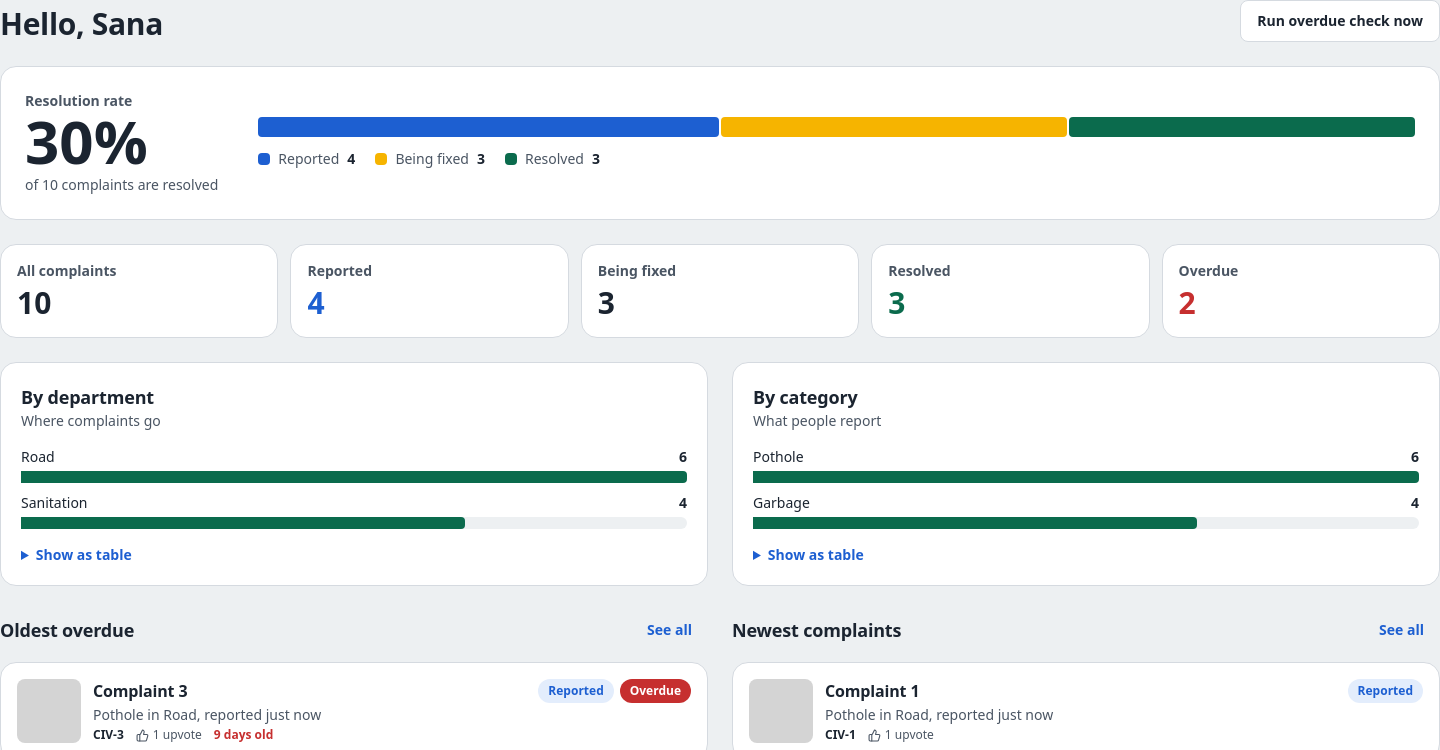
Test case: admin dashboard › runs the overdue check and reports the result
This screenshot has width=1440, height=750.
Click the button "Run overdue check now" at (1340, 21), box [1240,0,1439,42]
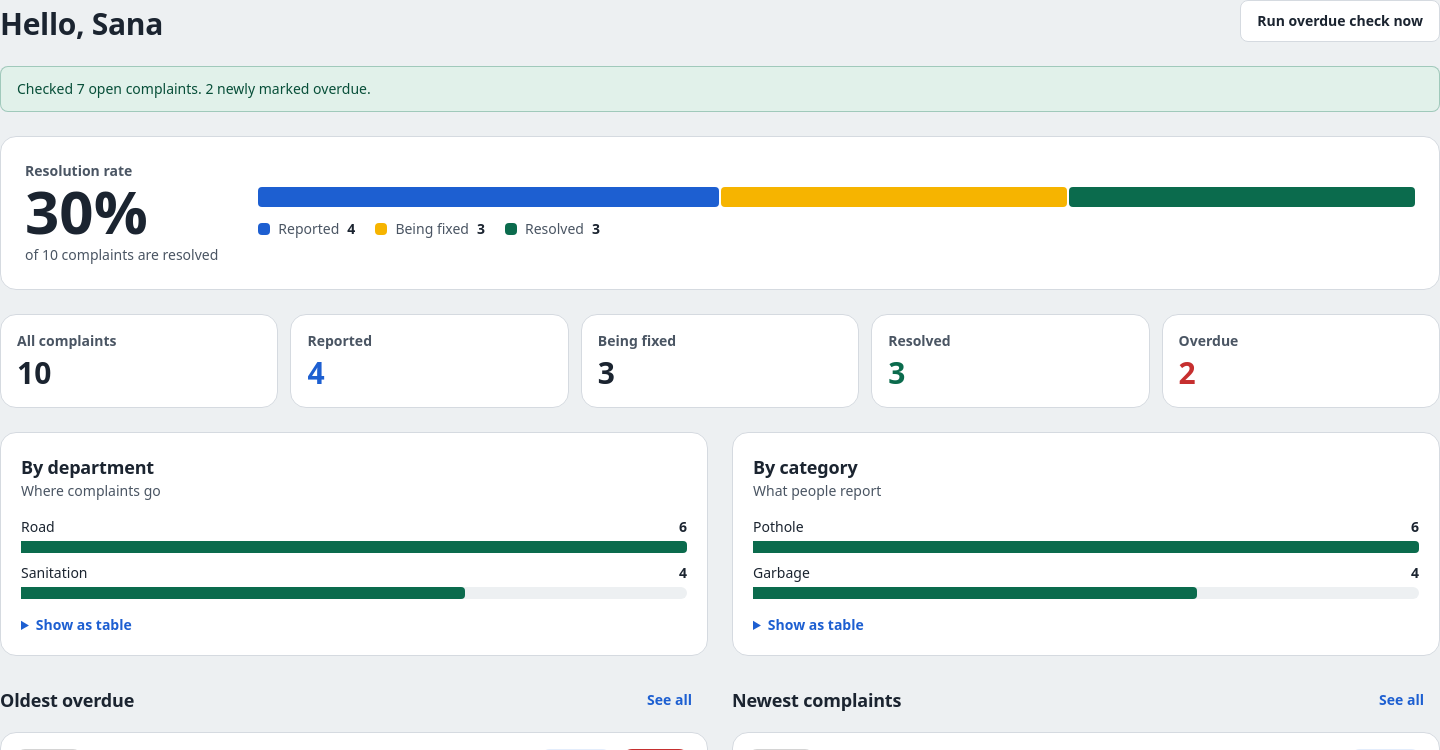
Result: the text "Checked 7 open complaints. 2 newly marked overdue." is shown at [0,66,1439,112]
